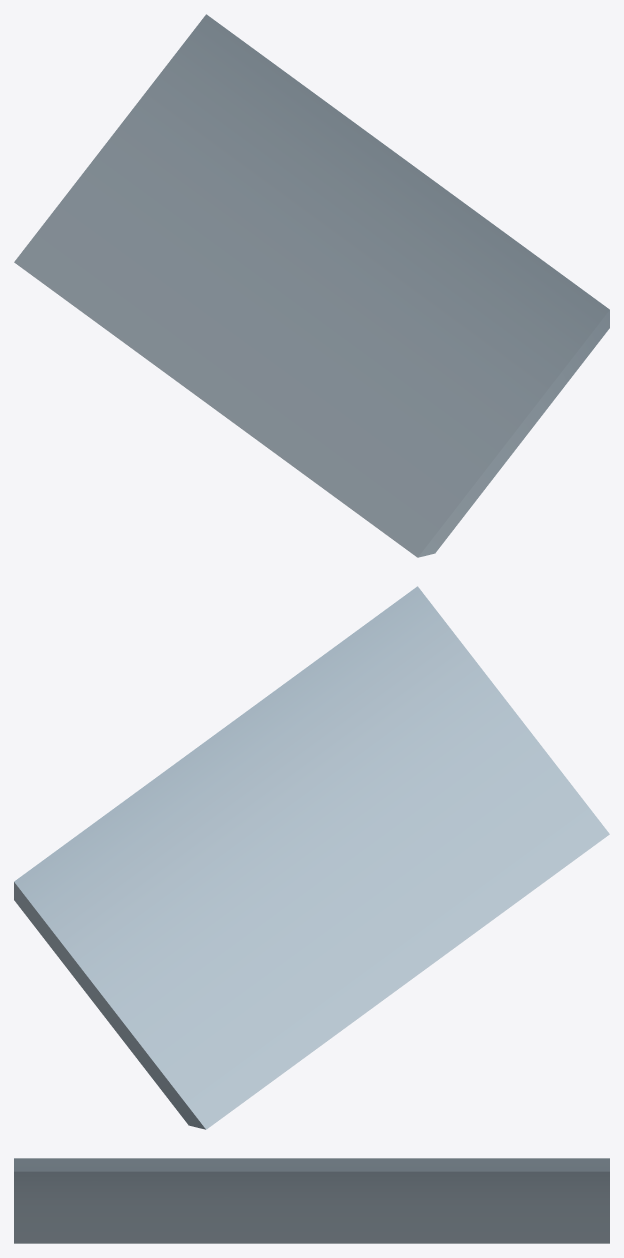
Rendered from Ceiling_4_001_LODGroup.fbx.
The picture shows the model from 3 angles, top to bottom: view 1: azimuth 30°, elevation 25°; view 2: azimuth 150°, elevation 25°; view 3: azimuth 270°, elevation 25°; orthographic projection. The views are drawn at different scales.
Visible parts, largest first — view 1: Ceiling 4.001_LOD0; view 2: Ceiling 4.001_LOD0; view 3: Ceiling 4.001_LOD0.
Part boxes in pixels (left/top/right/bottom): Ceiling 4.001_LOD0: left=14, top=14, right=609, bottom=557; Ceiling 4.001_LOD0: left=14, top=586, right=609, bottom=1129; Ceiling 4.001_LOD0: left=14, top=1158, right=609, bottom=1243.
Size of what is drawn, in the model's own units: 1.1 by 1.1 by 4.
1 material, 1 textured.
